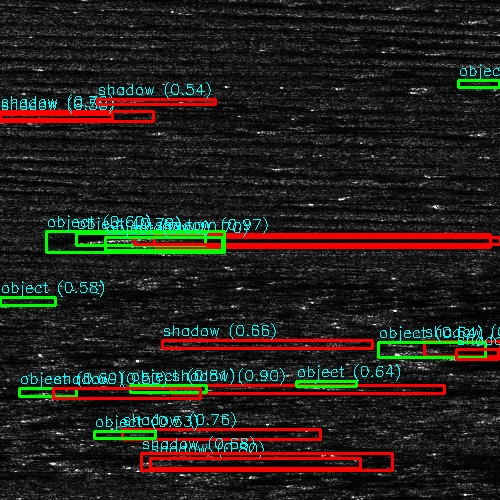rock: (381, 340, 454, 361), (79, 235, 204, 246), (121, 386, 194, 395), (0, 114, 5, 117)
shadow: (142, 235, 500, 246), (158, 386, 425, 395), (418, 340, 500, 361), (0, 114, 189, 117)
